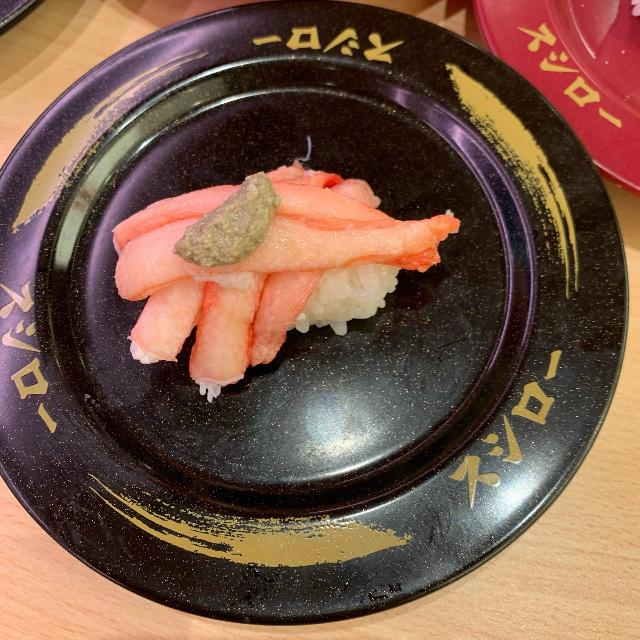janback: (24, 41, 586, 575), (0, 0, 37, 37)
janred: (461, 1, 640, 191)
